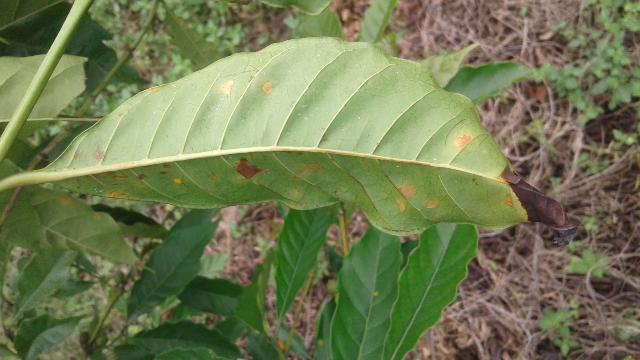rust_level_1: (34, 35, 577, 233)
